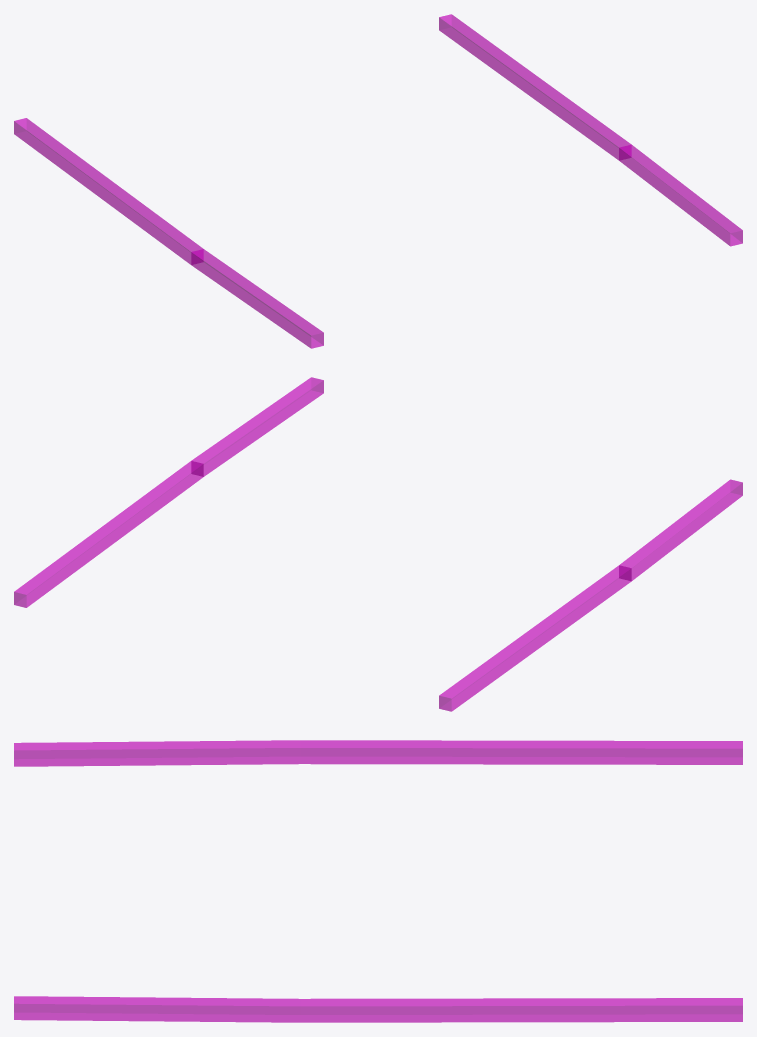
The model's file is SM_Veh_Ship_L_Middle_03_Collision.fbx.
The picture shows the model from 3 angles, top to bottom: view 1: azimuth 30°, elevation 25°; view 2: azimuth 150°, elevation 25°; view 3: azimuth 270°, elevation 25°; orthographic projection. The views are drawn at different scales.
Visible parts, largest first — view 1: SM_Veh_Ship_L_Middle_03_Collision; view 2: SM_Veh_Ship_L_Middle_03_Collision; view 3: SM_Veh_Ship_L_Middle_03_Collision.
Part boxes in pixels (left/top/right/bottom): SM_Veh_Ship_L_Middle_03_Collision: left=14, top=14, right=742, bottom=348; SM_Veh_Ship_L_Middle_03_Collision: left=14, top=377, right=742, bottom=711; SM_Veh_Ship_L_Middle_03_Collision: left=14, top=740, right=742, bottom=1022.
Size of the model in its own units: 995 by 28.44 by 1152.
